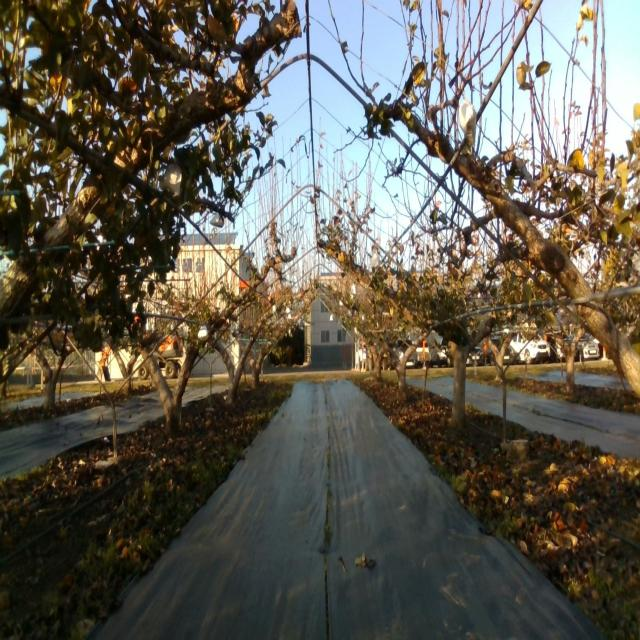pearbags: (159, 157, 183, 197), (458, 100, 477, 146)
